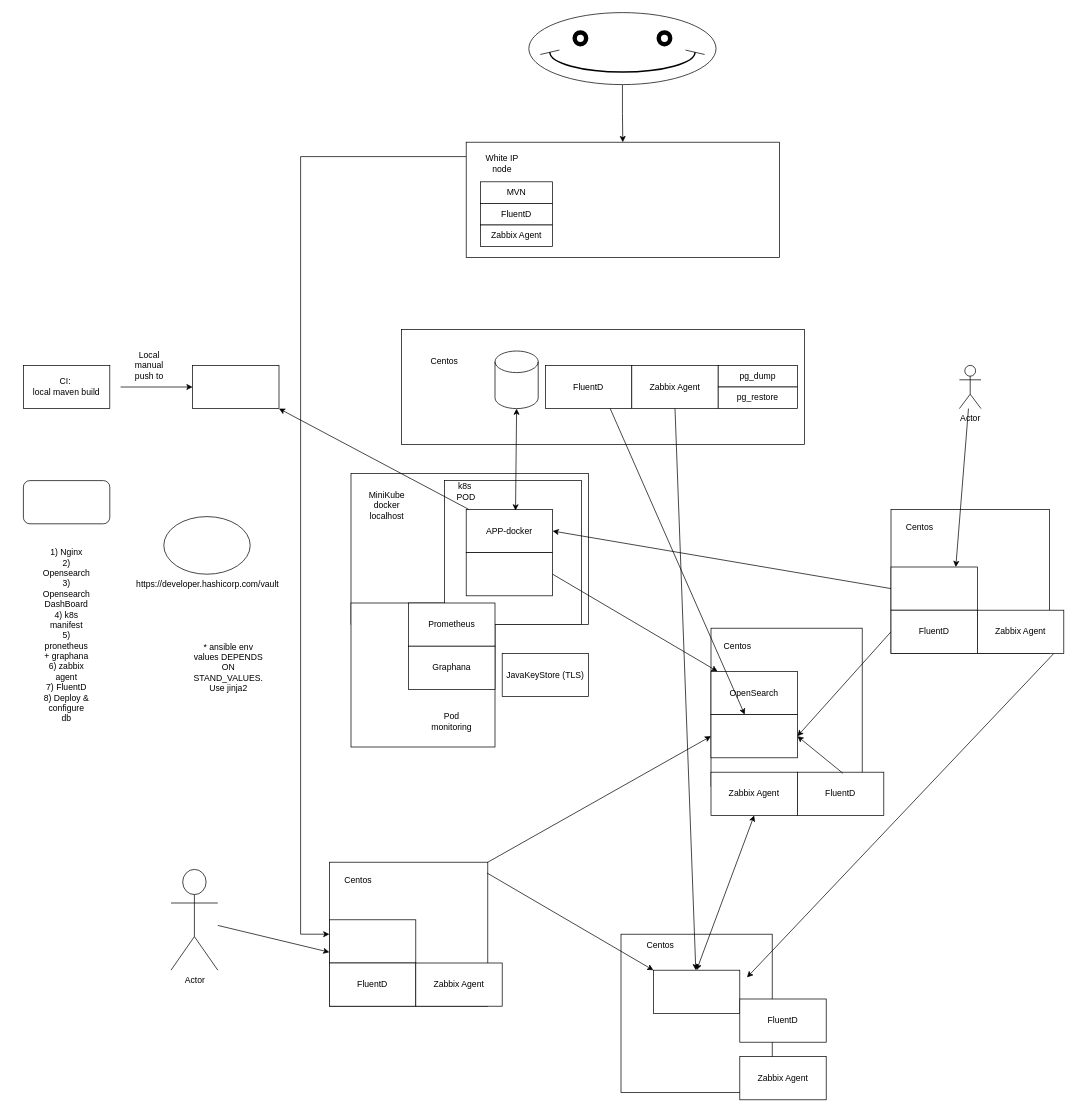
This 1076x1112 diagram has some shape labels left out. Here are the shapes that lost their labels. From the top down, the centre of each, then its label:
At [622,48]: "Telegram-bot".
At [235,387]: "docker registry".
At [516,379]: "db".
At [66,502]: "Deploy Jenkins + ansible on jenkins agent".
At [206,545]: "Секретики Кубер, женкинс, приложение".
At [509,574]: "FluentBIT".
At [933,588]: "Nginx_ui".
At [753,736]: "OpenSearch Dashboard".
At [372,941]: "Nginx_tech".
At [696,991]: "Monitoring Linux car".
